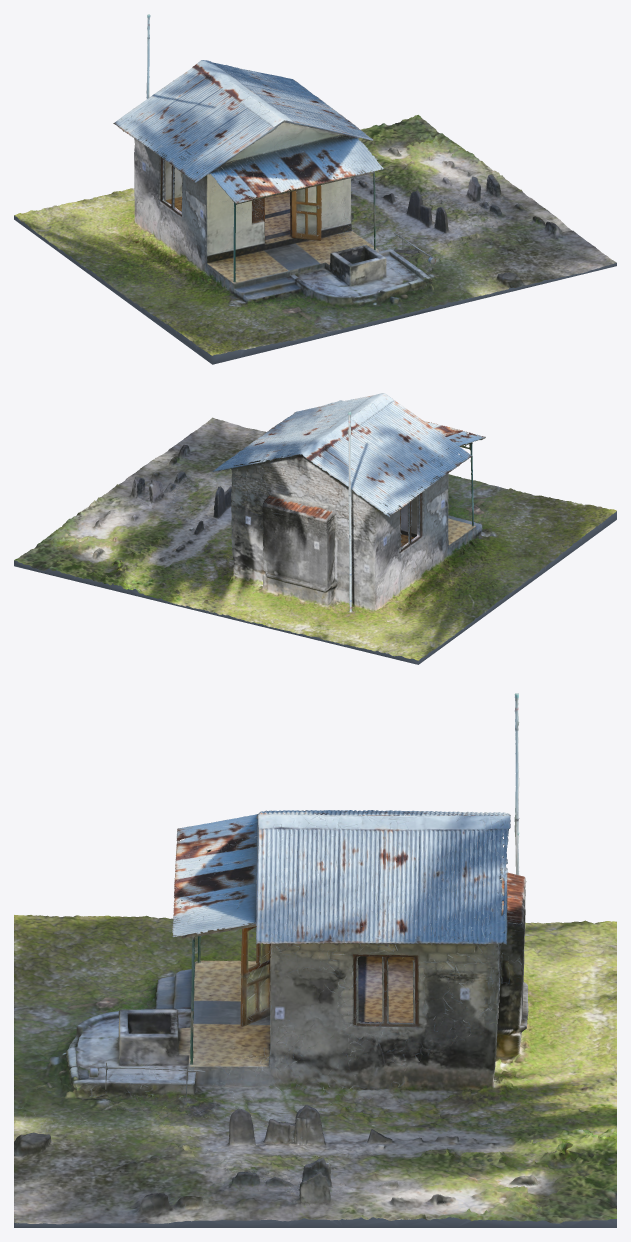
File: kudhu-miskiyy.glb
The picture shows the model from 3 angles, top to bottom: view 1: azimuth 30°, elevation 25°; view 2: azimuth 150°, elevation 25°; view 3: azimuth 270°, elevation 25°; orthographic projection. The views are drawn at different scales.
Visible parts, largest first — view 1: Object_2, Object_3, Object_4, Object_5, Object_6; view 2: Object_3, Object_5, Object_4, Object_2, Object_6; view 3: Object_5, Object_4, Object_2, Object_3, Object_6.
Part boxes in pixels (<box>): Object_2: <box>14,110,616,364</box>; Object_3: <box>33,66,572,328</box>; Object_4: <box>14,60,482,353</box>; Object_5: <box>36,14,508,295</box>; Object_6: <box>311,189,616,331</box>; Object_3: <box>81,393,532,653</box>; Object_5: <box>14,411,522,648</box>; Object_4: <box>43,396,612,660</box>; Object_2: <box>14,393,616,664</box>; Object_6: <box>116,417,506,528</box>; Object_5: <box>131,693,616,1223</box>; Object_4: <box>14,810,616,1220</box>; Object_2: <box>14,810,616,1227</box>; Object_3: <box>14,810,616,1221</box>; Object_6: <box>14,986,348,1224</box>.
Size of the model in its own units: 11.1 by 5.36 by 9.44.
1 material, 1 textured.
